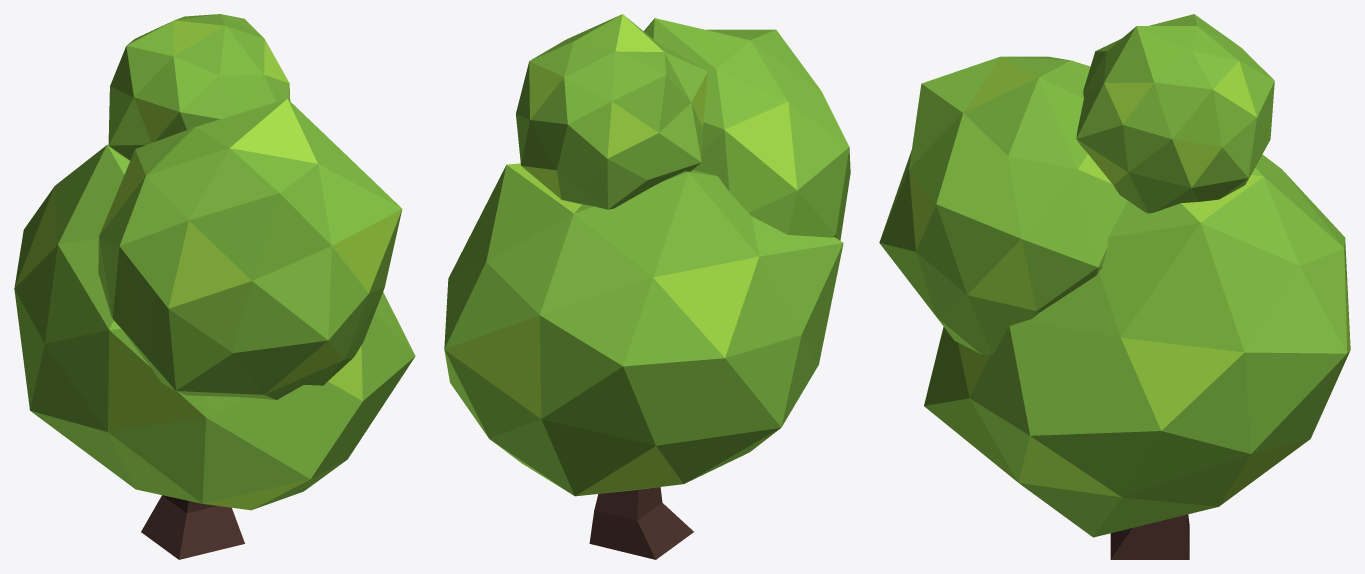
File: Bush.fbx
The picture shows the model from 3 angles, left to right: view 1: azimuth 30°, elevation 25°; view 2: azimuth 150°, elevation 25°; view 3: azimuth 270°, elevation 25°; orthographic projection. The views are drawn at different scales.
Parts seen in each view (by area): view 1: Bush; view 2: Bush; view 3: Bush.
Boxes of the visible parts, x1,y1,x2,y2 form: Bush: (14, 14, 415, 559); Bush: (444, 14, 850, 559); Bush: (879, 14, 1350, 559).
Size of the model in its own units: 101 by 152 by 123.
